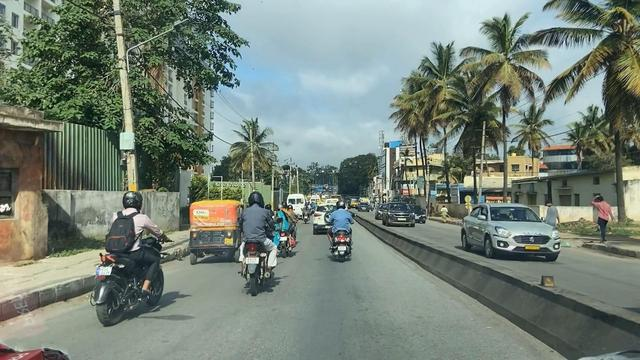LMV: (104, 193, 159, 315), (183, 206, 237, 263), (239, 191, 270, 290), (325, 201, 353, 262)
